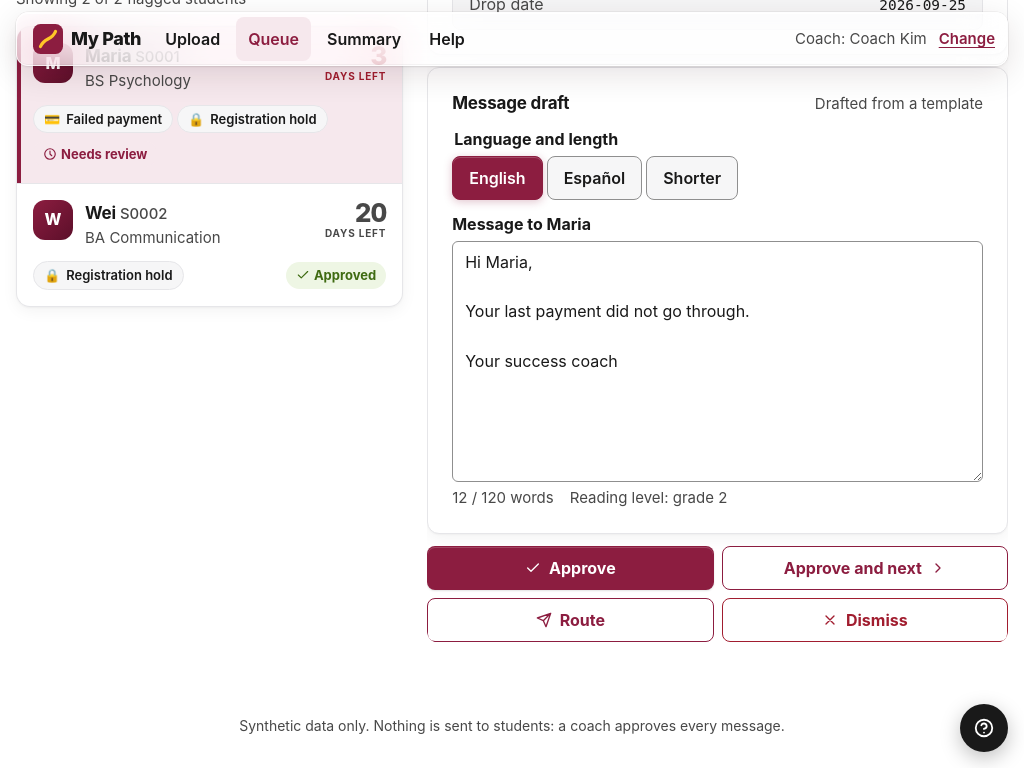
Test: FlagDetailPage › explains an edit conflict and offers to load the latest version
This screenshot has width=1024, height=768.
(page scrolled)
Step 1. Click the button "Approve" → click(570, 568), box x1=427 y1=546 x2=714 y2=590
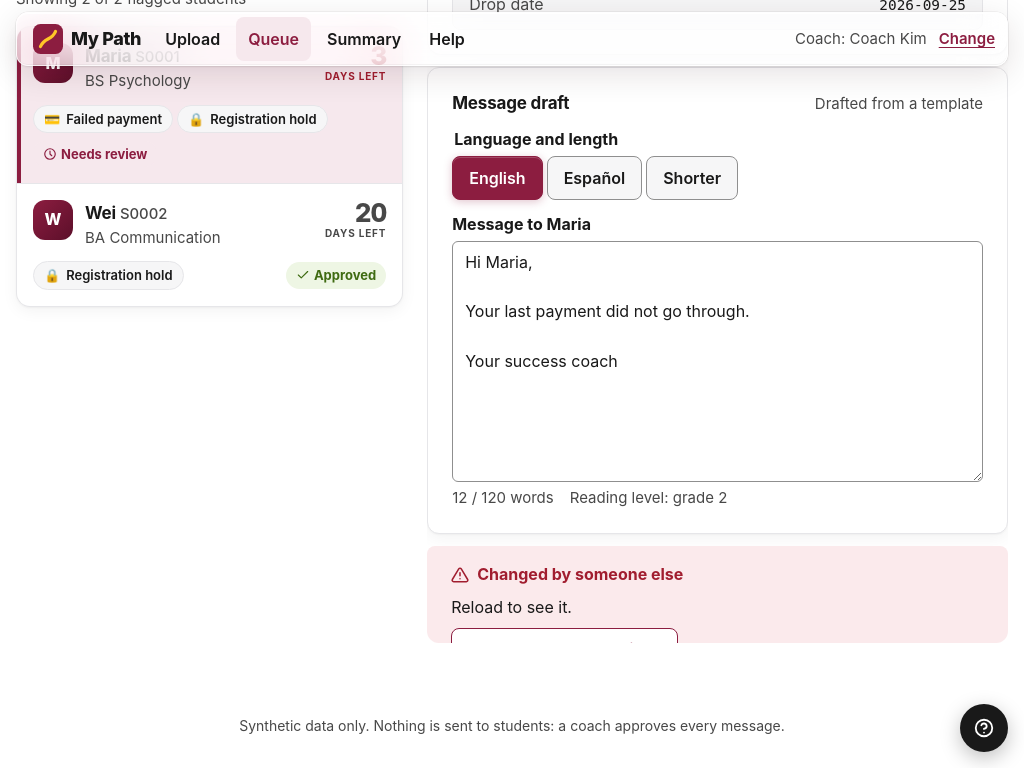
Now the text "Changed by someone else" is shown, box x1=451 y1=562 x2=683 y2=587
